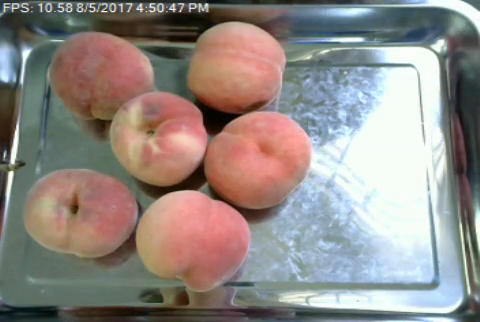Peach: (136, 190, 248, 289), (205, 110, 310, 209), (24, 167, 137, 257), (46, 30, 156, 122), (106, 90, 209, 187), (186, 20, 284, 113)
